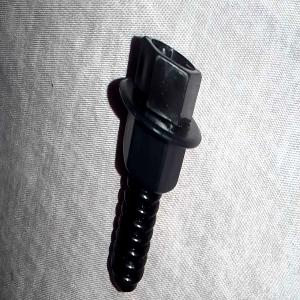parafuso: (110, 33, 202, 292)
